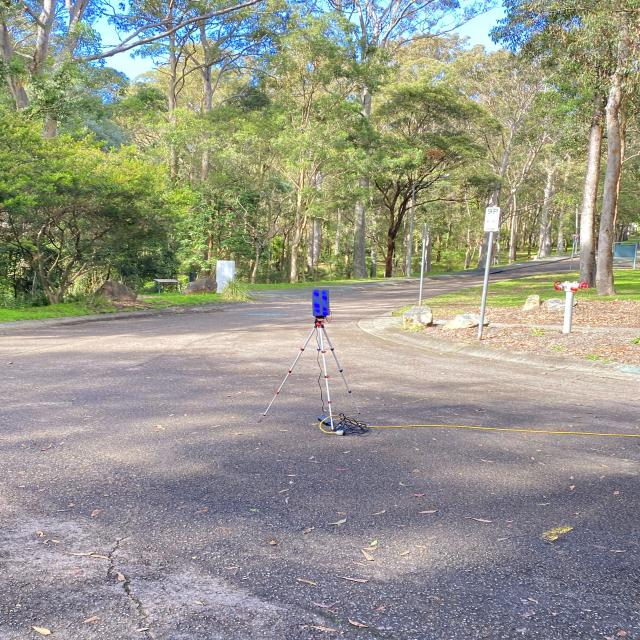matrix: (311, 288, 332, 318)
